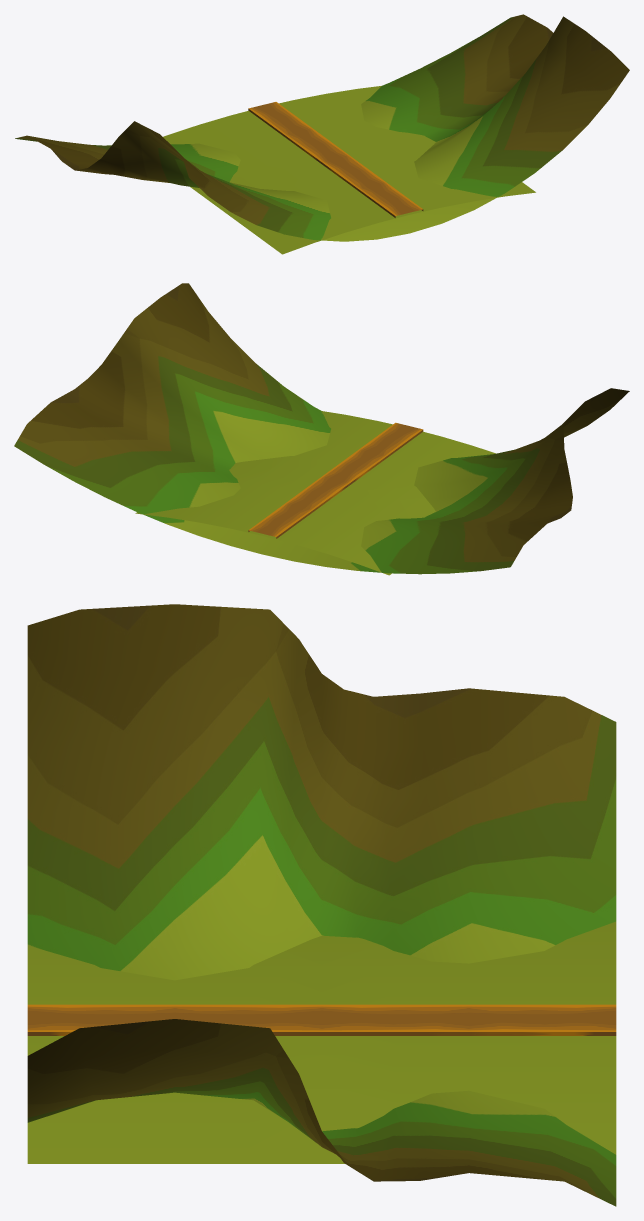
File: trans_02.FBX
3 renders of one model, top to bottom at view 1: azimuth 30°, elevation 25°; view 2: azimuth 150°, elevation 25°; view 3: azimuth 270°, elevation 25°, orthographic. The views are drawn at different scales.
Parts seen in each view (by area): view 1: Plane007, Plane008, Box007; view 2: Plane007, Plane008, Box007; view 3: Plane007, Plane008, Box007.
Boxes of the visible parts, left/top/right/bottom form: Plane007: left=15, top=14, right=629, bottom=241; Plane008: left=163, top=86, right=535, bottom=254; Box007: left=248, top=102, right=423, bottom=217; Plane007: left=14, top=283, right=629, bottom=574; Plane008: left=135, top=411, right=495, bottom=575; Box007: left=248, top=422, right=423, bottom=538; Plane007: left=27, top=604, right=616, bottom=1206; Plane008: left=27, top=921, right=616, bottom=1163; Box007: left=27, top=1004, right=616, bottom=1035.
Bounding box in the file's own units: 25600 × 11921 × 50166.
4 materials, 3 textured.
